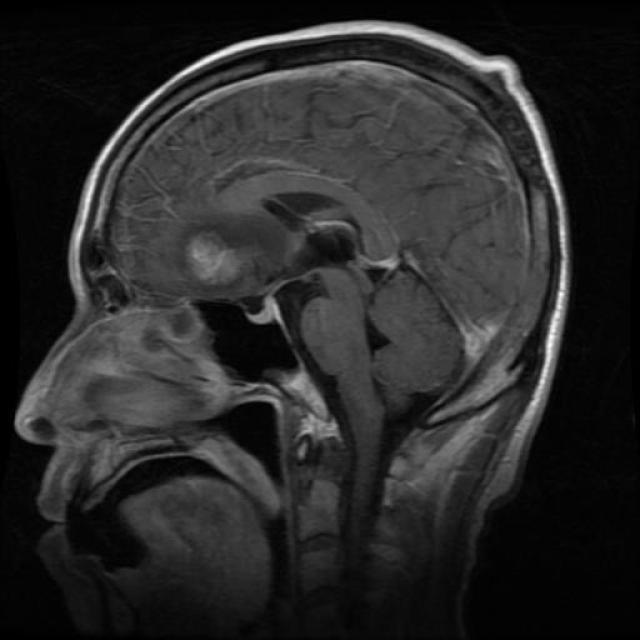meningioma: (189, 234, 240, 288)
